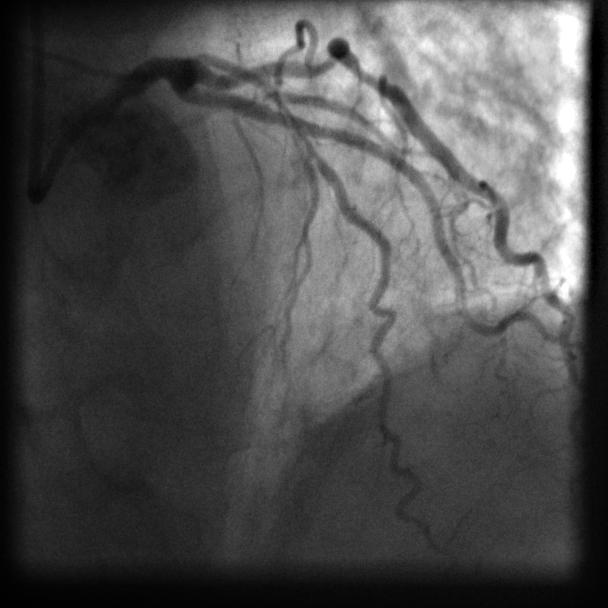Stenosis: (278, 89, 302, 141)
